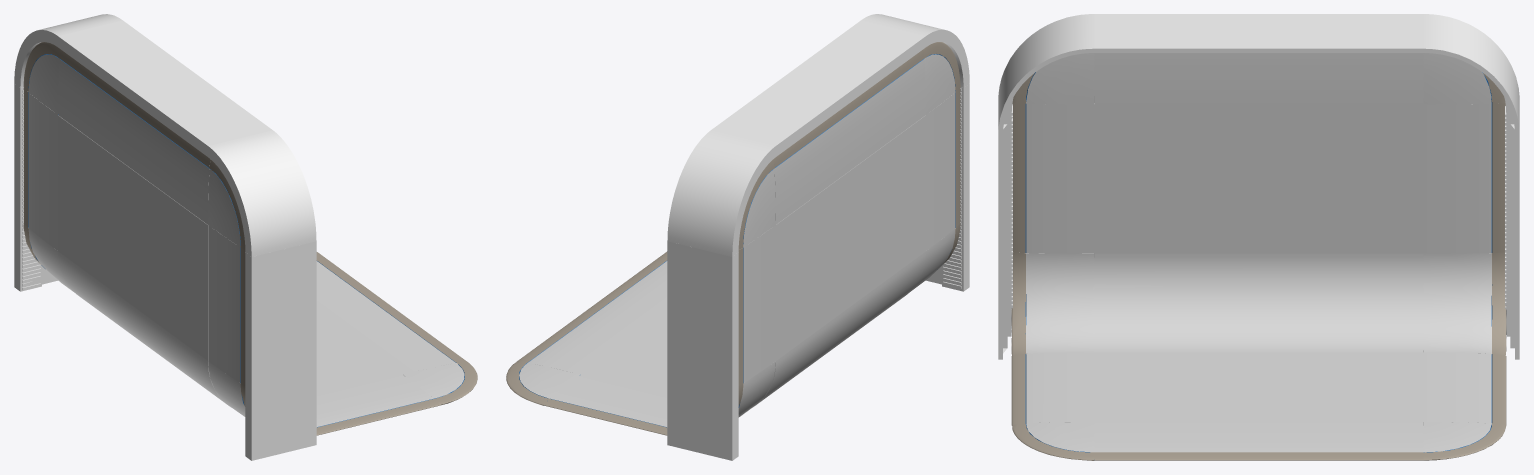
File: showcase.gltf
The picture shows the model from 3 angles, left to right: view 1: azimuth 30°, elevation 25°; view 2: azimuth 150°, elevation 25°; view 3: azimuth 270°, elevation 25°; orthographic projection. The views are drawn at different scales.
Parts seen in each view (by area): view 1: NODE_AddInstancedStaticMeshComponent-0:0, NODE_AddInstancedStaticMeshComponent-7:0, NODE_AddInstancedStaticMeshComponent-9:0, NODE_AddInstancedStaticMeshComponent-4:2, NODE_AddInstancedStaticMeshComponent-8:0, NODE_AddInstancedStaticMeshComponent-4:5, NODE_AddInstancedStaticMeshComponent-4:0, NODE_AddInstancedStaticMeshComponent-4:1, NODE_AddInstancedStaticMeshComponent-2:0, NODE_AddInstancedStaticMeshComponent-4:4, NODE_AddInstancedStaticMeshComponent-0:1, NODE_AddInstancedStaticMeshComponent-7:1 (+6 smaller); view 2: NODE_AddInstancedStaticMeshComponent-0:0, NODE_AddInstancedStaticMeshComponent-7:1, NODE_AddInstancedStaticMeshComponent-9:0, NODE_AddInstancedStaticMeshComponent-4:2, NODE_AddInstancedStaticMeshComponent-8:1, NODE_AddInstancedStaticMeshComponent-4:5, NODE_AddInstancedStaticMeshComponent-4:1, NODE_AddInstancedStaticMeshComponent-4:0, NODE_AddInstancedStaticMeshComponent-2:0, NODE_AddInstancedStaticMeshComponent-4:3, NODE_AddInstancedStaticMeshComponent-0:1, NODE_AddInstancedStaticMeshComponent-7:0 (+6 smaller); view 3: NODE_AddInstancedStaticMeshComponent-0:0, NODE_AddInstancedStaticMeshComponent-2:0, NODE_AddInstancedStaticMeshComponent-0:1, NODE_AddInstancedStaticMeshComponent-4:2, NODE_AddInstancedStaticMeshComponent-4:5, NODE_AddInstancedStaticMeshComponent-9:0, NODE_AddInstancedStaticMeshComponent-4:0, NODE_AddInstancedStaticMeshComponent-4:1, NODE_AddInstancedStaticMeshComponent-3:1, NODE_AddInstancedStaticMeshComponent-3:0, NODE_AddInstancedStaticMeshComponent-4:4, NODE_AddInstancedStaticMeshComponent-4:3 (+8 smaller).
Part boxes in pixels (bbox=[...]): NODE_AddInstancedStaticMeshComponent-0:0: bbox=[58, 115, 208, 360]; NODE_AddInstancedStaticMeshComponent-7:0: bbox=[245, 241, 316, 460]; NODE_AddInstancedStaticMeshComponent-9:0: bbox=[58, 20, 272, 156]; NODE_AddInstancedStaticMeshComponent-4:2: bbox=[58, 49, 210, 224]; NODE_AddInstancedStaticMeshComponent-8:0: bbox=[208, 130, 316, 256]; NODE_AddInstancedStaticMeshComponent-4:5: bbox=[316, 252, 466, 374]; NODE_AddInstancedStaticMeshComponent-4:0: bbox=[208, 225, 245, 385]; NODE_AddInstancedStaticMeshComponent-4:1: bbox=[23, 87, 57, 250]; NODE_AddInstancedStaticMeshComponent-2:0: bbox=[58, 251, 229, 406]; NODE_AddInstancedStaticMeshComponent-4:4: bbox=[316, 374, 440, 435]; NODE_AddInstancedStaticMeshComponent-0:1: bbox=[316, 312, 402, 395]; NODE_AddInstancedStaticMeshComponent-7:1: bbox=[14, 83, 57, 291]; NODE_AddInstancedStaticMeshComponent-0:0: bbox=[776, 115, 925, 360]; NODE_AddInstancedStaticMeshComponent-7:1: bbox=[667, 241, 738, 460]; NODE_AddInstancedStaticMeshComponent-9:0: bbox=[711, 20, 925, 156]; NODE_AddInstancedStaticMeshComponent-4:2: bbox=[773, 49, 925, 224]; NODE_AddInstancedStaticMeshComponent-8:1: bbox=[667, 130, 775, 256]; NODE_AddInstancedStaticMeshComponent-4:5: bbox=[517, 252, 667, 374]; NODE_AddInstancedStaticMeshComponent-4:1: bbox=[738, 225, 775, 385]; NODE_AddInstancedStaticMeshComponent-4:0: bbox=[926, 88, 960, 250]; NODE_AddInstancedStaticMeshComponent-2:0: bbox=[754, 251, 925, 406]; NODE_AddInstancedStaticMeshComponent-4:3: bbox=[543, 374, 667, 435]; NODE_AddInstancedStaticMeshComponent-0:1: bbox=[581, 312, 667, 395]; NODE_AddInstancedStaticMeshComponent-7:0: bbox=[926, 83, 969, 291]; NODE_AddInstancedStaticMeshComponent-0:0: bbox=[1094, 104, 1423, 253]; NODE_AddInstancedStaticMeshComponent-2:0: bbox=[1094, 253, 1423, 352]; NODE_AddInstancedStaticMeshComponent-0:1: bbox=[1094, 352, 1423, 421]; NODE_AddInstancedStaticMeshComponent-4:2: bbox=[1094, 53, 1423, 104]; NODE_AddInstancedStaticMeshComponent-4:5: bbox=[1094, 422, 1423, 460]; NODE_AddInstancedStaticMeshComponent-9:0: bbox=[1094, 14, 1423, 52]; NODE_AddInstancedStaticMeshComponent-4:0: bbox=[1012, 103, 1094, 253]; NODE_AddInstancedStaticMeshComponent-4:1: bbox=[1423, 103, 1505, 253]; NODE_AddInstancedStaticMeshComponent-3:1: bbox=[1423, 252, 1506, 355]; NODE_AddInstancedStaticMeshComponent-3:0: bbox=[1011, 252, 1094, 355]; NODE_AddInstancedStaticMeshComponent-4:4: bbox=[1011, 352, 1094, 425]; NODE_AddInstancedStaticMeshComponent-4:3: bbox=[1423, 352, 1506, 424].
Size of the model in its own units: 4 by 4.16 by 6.33.
